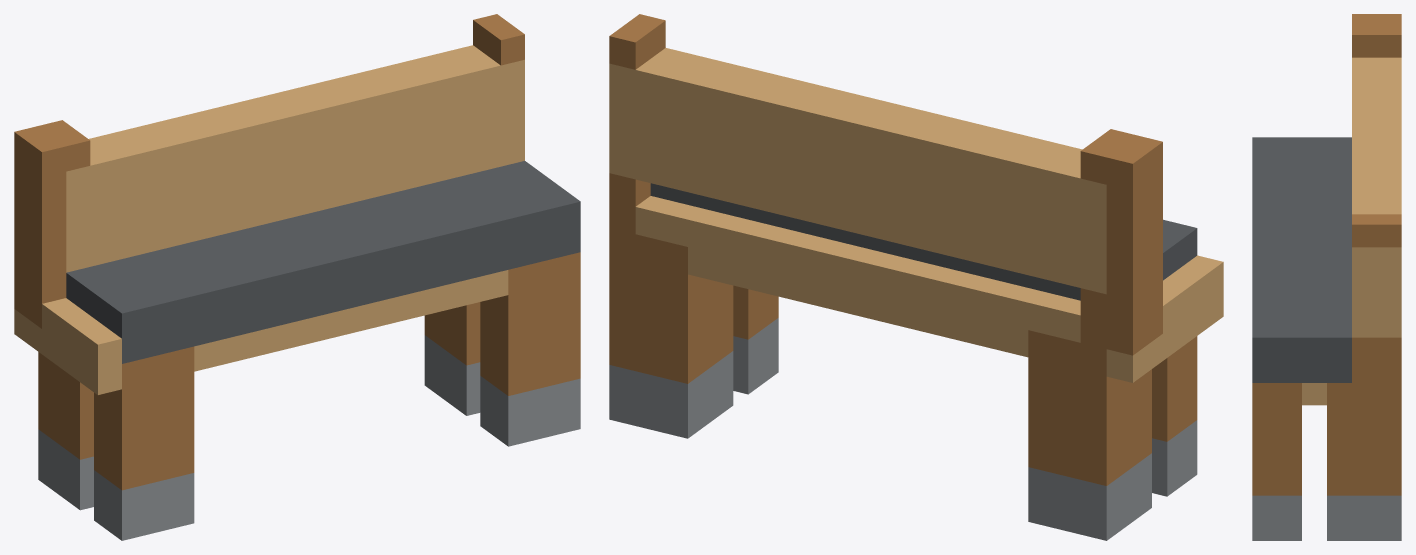
The model's file is hearthvale_furniture_bench.obj.
3 renders of one model, left to right at view 1: azimuth 30°, elevation 25°; view 2: azimuth 150°, elevation 25°; view 3: azimuth 270°, elevation 25°, orthographic. The views are drawn at different scales.
Visible parts, largest first — view 1: palette_3, palette_4, palette_2, palette_5; view 2: palette_3, palette_2, palette_5, palette_4; view 3: palette_4, palette_2, palette_3, palette_5.
Part boxes in pixels (x1=…): palette_3: x1=14, y1=45, x2=524, y2=394; palette_4: x1=66, y1=161, x2=580, y2=363; palette_2: x1=14, y1=14, x2=580, y2=490; palette_5: x1=38, y1=335, x2=580, y2=540; palette_3: x1=609, y1=48, x2=1223, y2=382; palette_2: x1=609, y1=14, x2=1197, y2=485; palette_5: x1=609, y1=318, x2=1197, y2=540; palette_4: x1=650, y1=183, x2=1197, y2=300; palette_4: x1=1252, y1=137, x2=1351, y2=382; palette_2: x1=1252, y1=14, x2=1401, y2=495; palette_3: x1=1302, y1=57, x2=1401, y2=405; palette_5: x1=1252, y1=495, x2=1401, y2=540.
Bounding box in the file's own units: 1.25 × 0.875 × 0.375.
